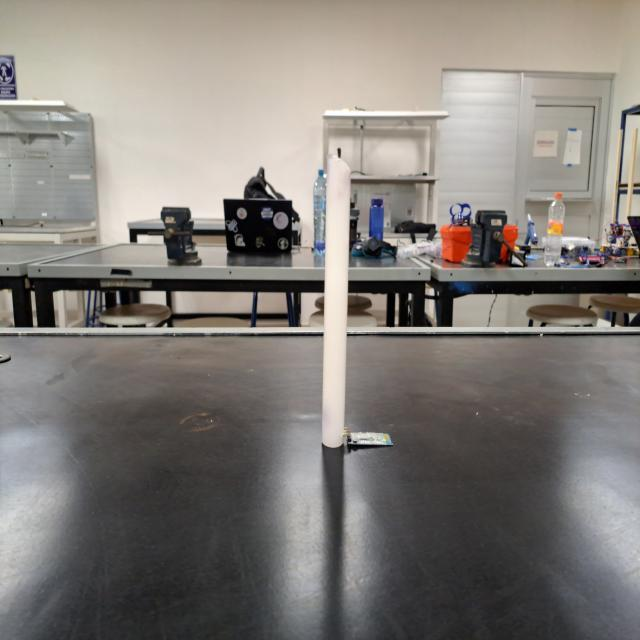candle: (317, 138, 353, 458)
